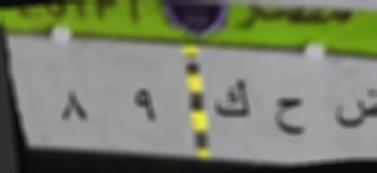7aa: (270, 92, 310, 142)
8: (58, 85, 92, 130)
9: (130, 80, 160, 128)
kaaf: (210, 74, 254, 123)
